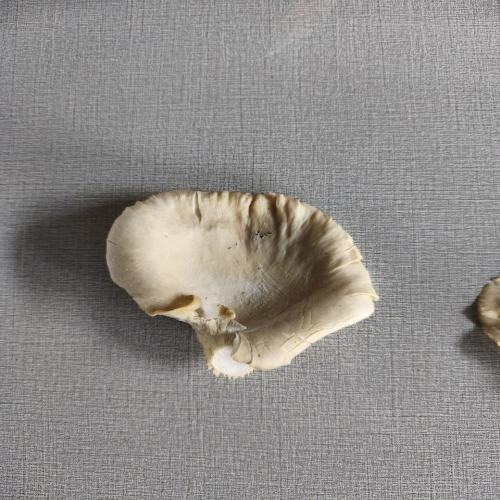Oyster Mushroom: (85, 117, 390, 419), (477, 277, 499, 346)
